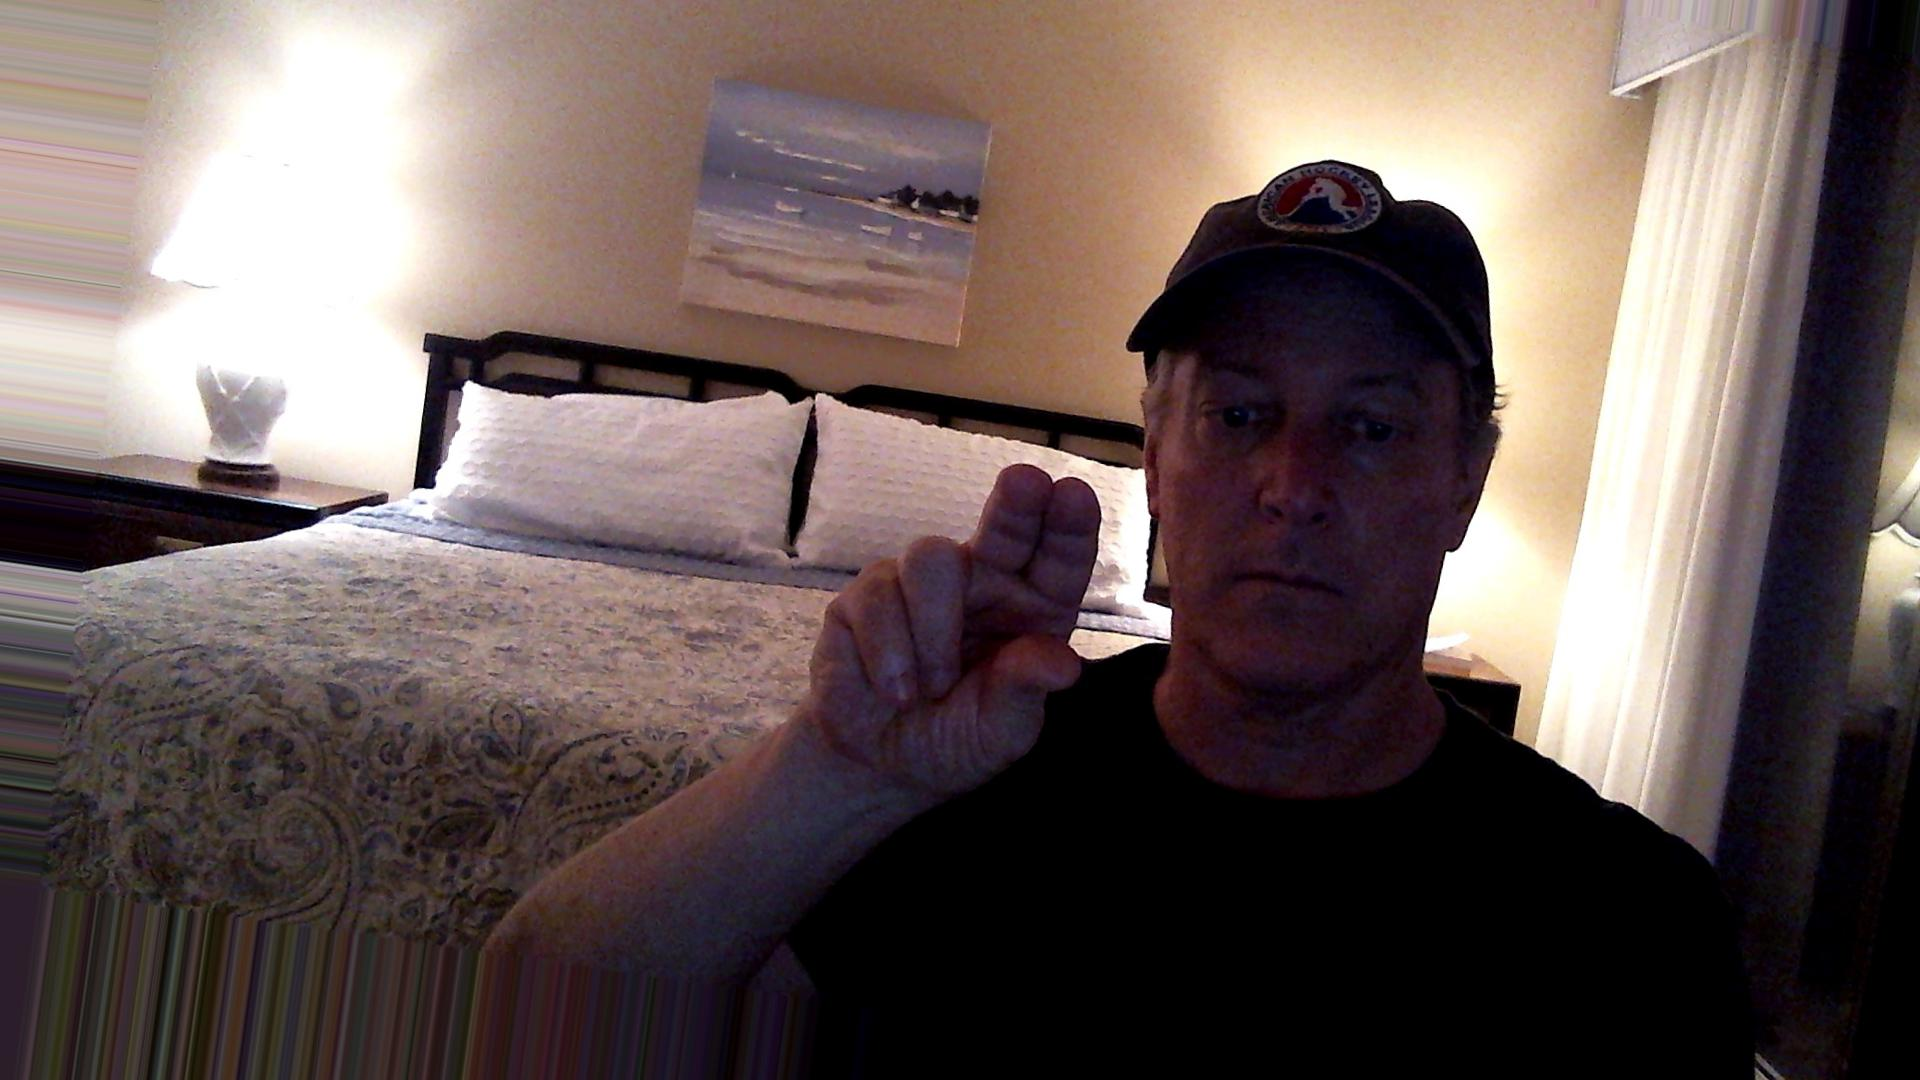No: (793, 440, 1124, 800)
